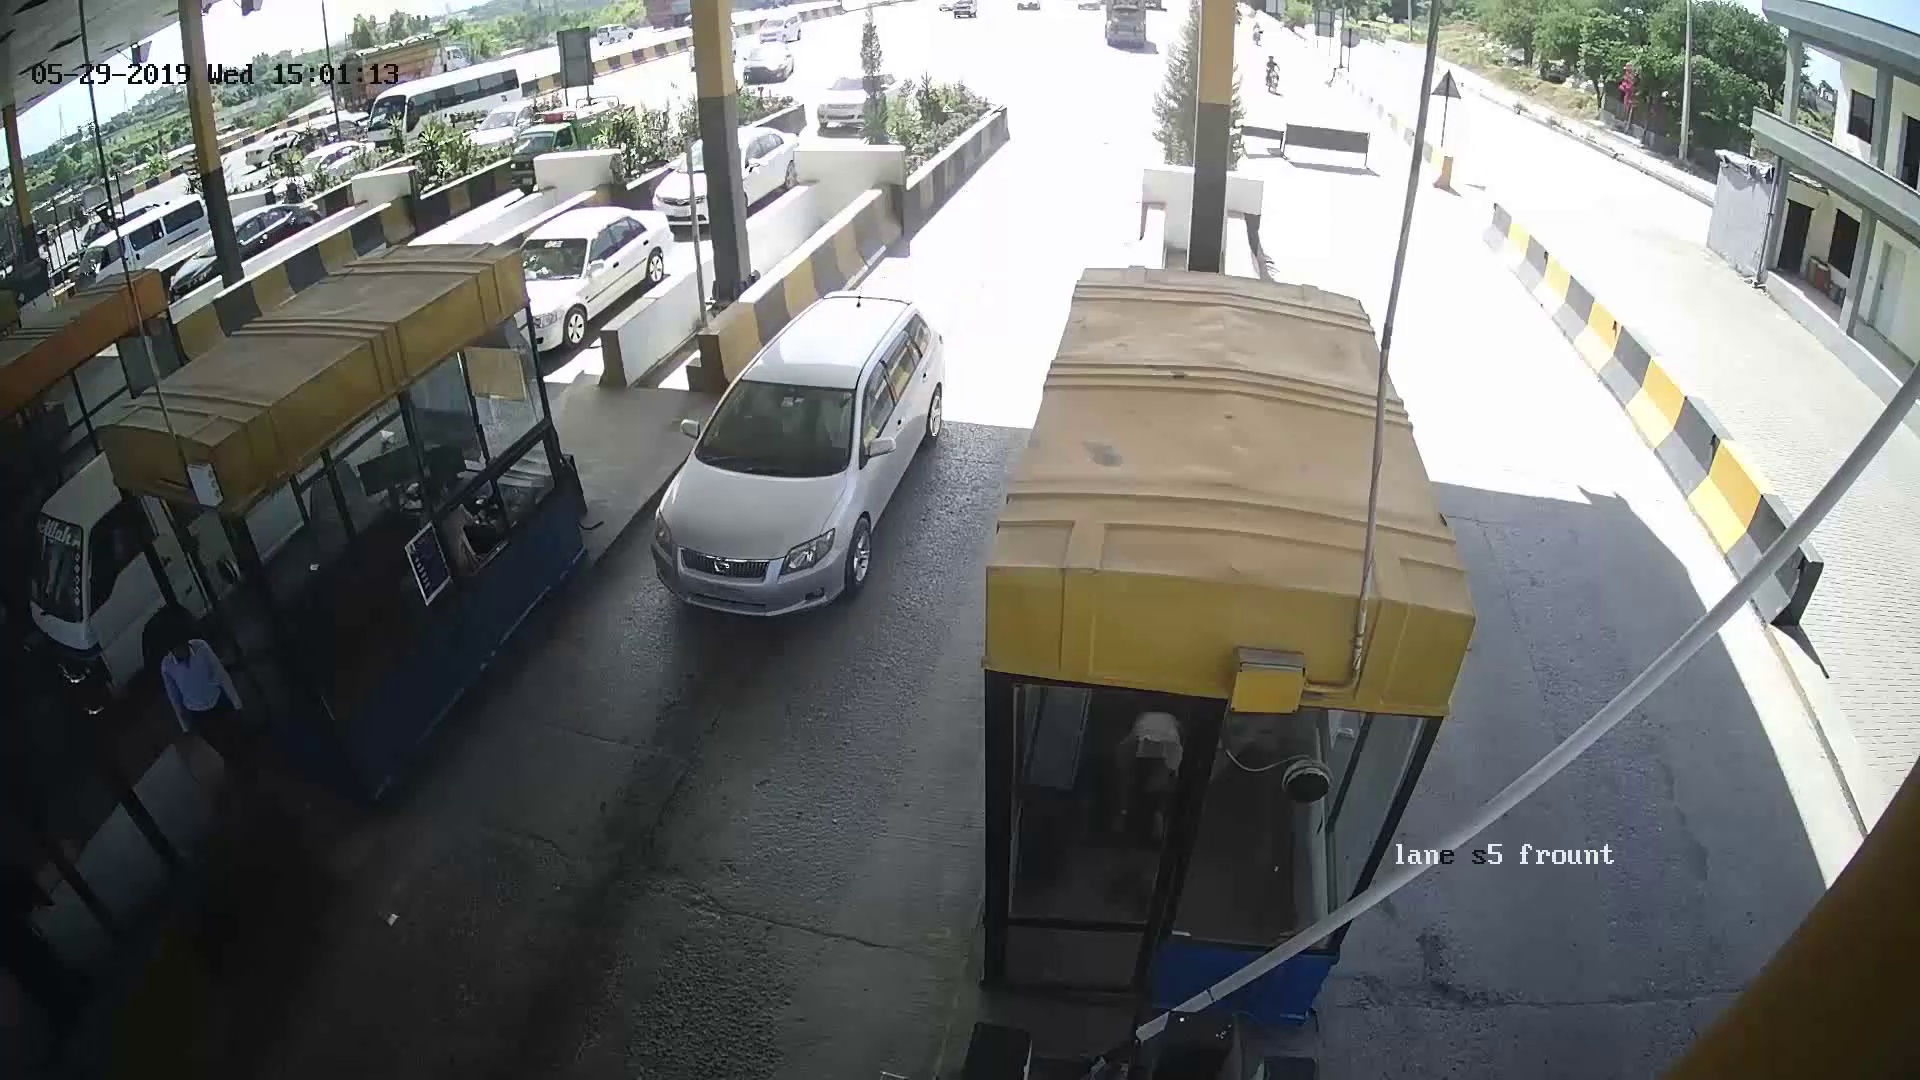car: (676, 316, 928, 632)
